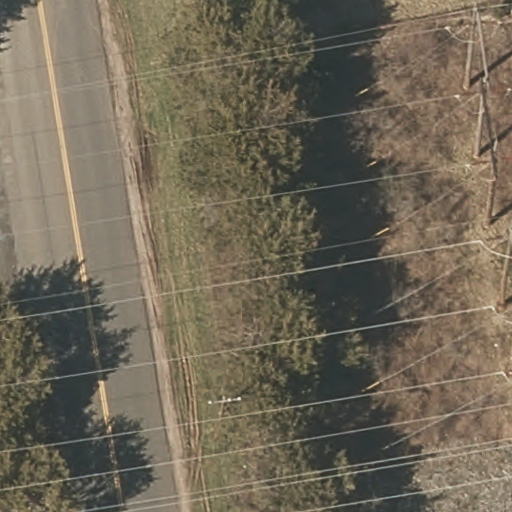DT: (476, 87, 501, 175), (471, 4, 494, 82), (206, 395, 242, 406)
